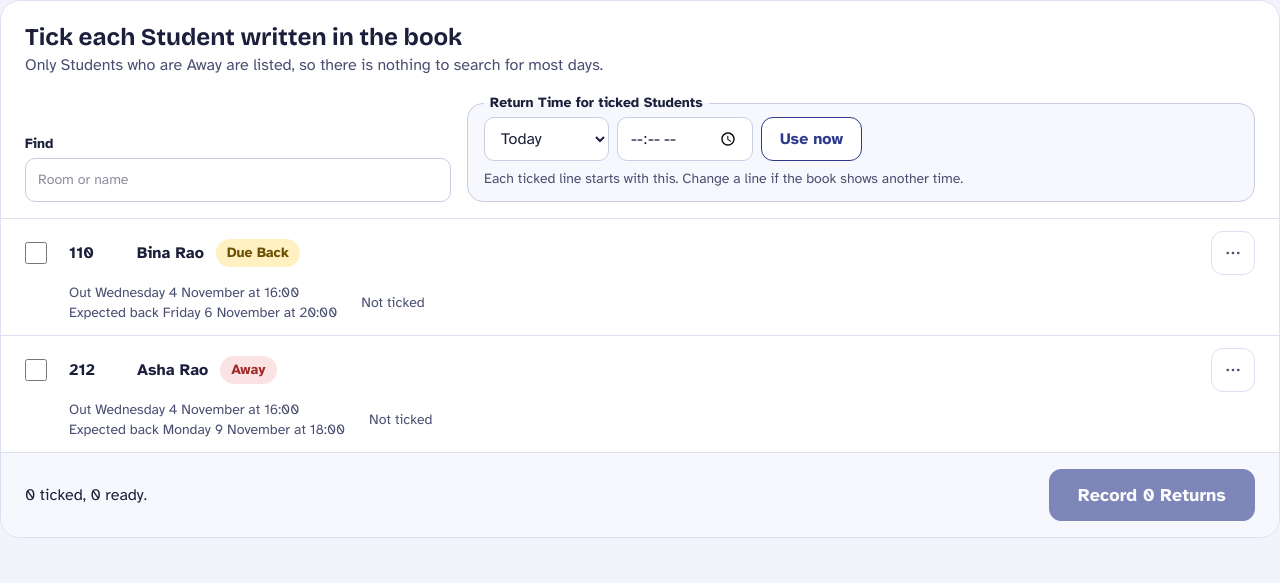
the Back-from-Home Book › counts only the ticked lines that have a Return Time
Click the checkbox named "Asha Rao came back".
click(36, 370)  # box [25,359,47,381]
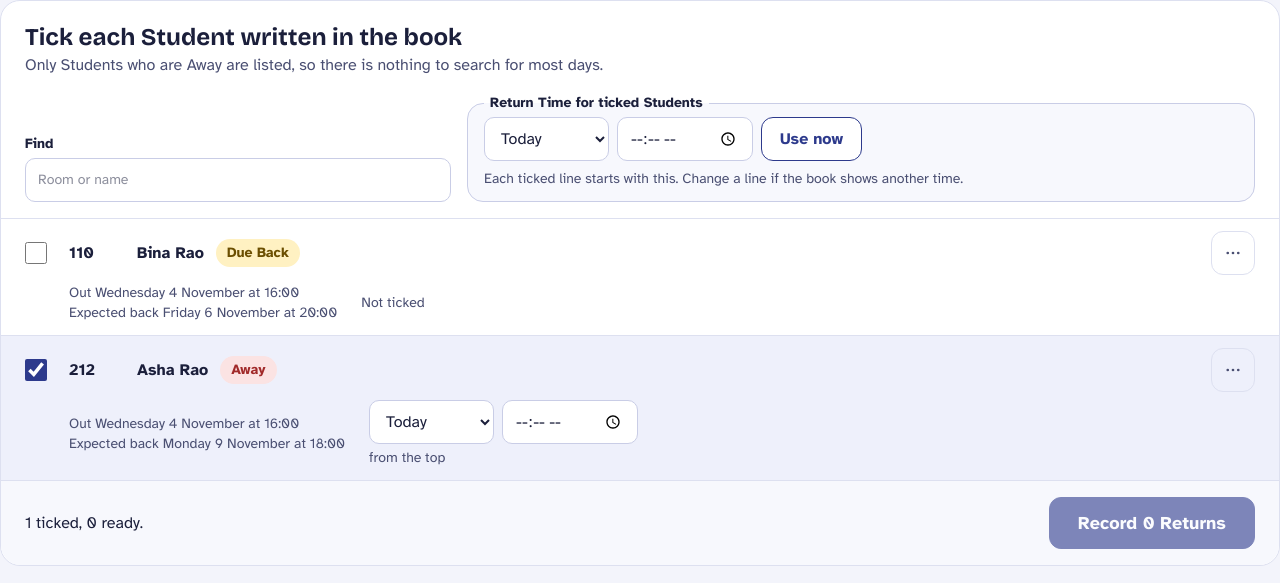
Expected: the button "Record 0 Returns" is shown, [1049,497,1255,549]
Type "17:15" into the time field named "Return Time for ticked Students".
click(685, 139); type("17:15")  # box [617,117,753,161]
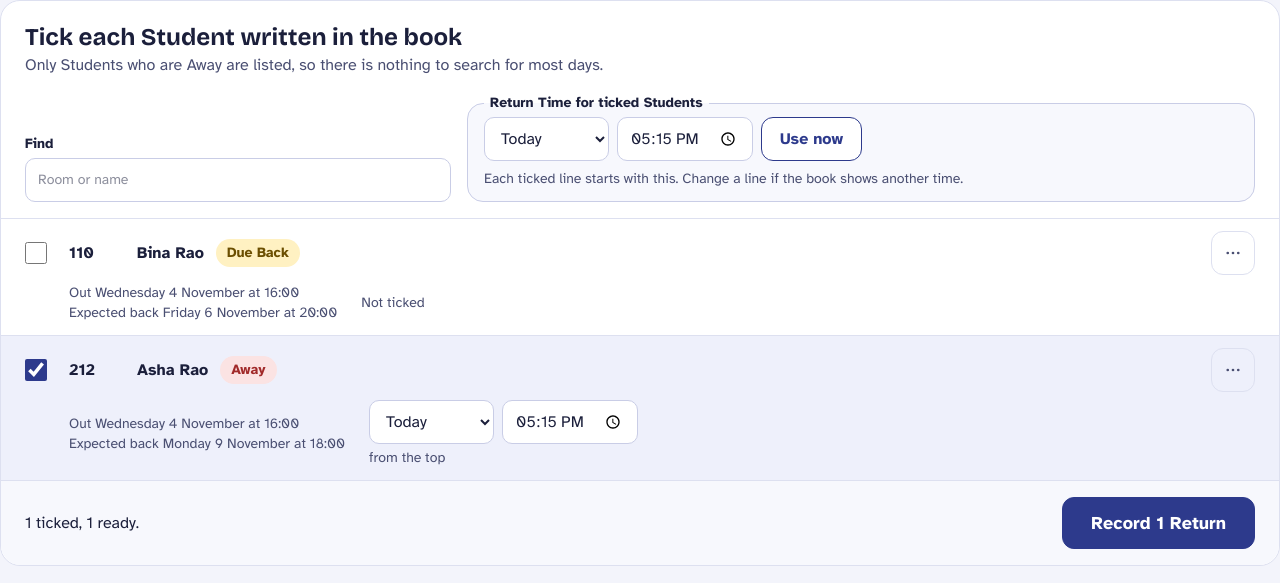
Expected: the button "Record 1 Return" is shown, [1062,497,1255,549]
Expected: the text "1 ticked, 1 ready." is shown, [25,511,139,535]
